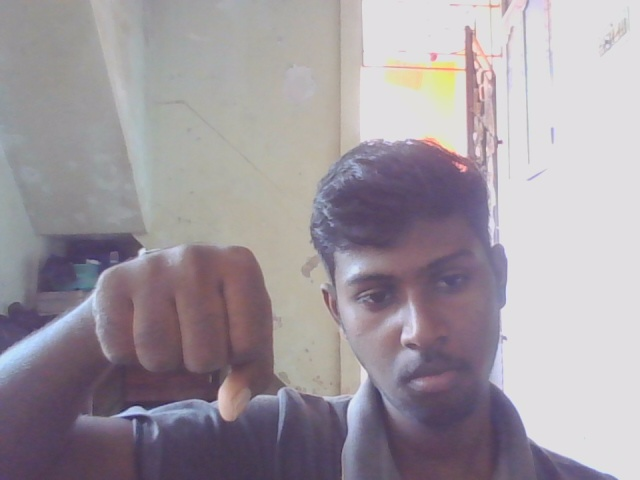No: (76, 227, 307, 427)
